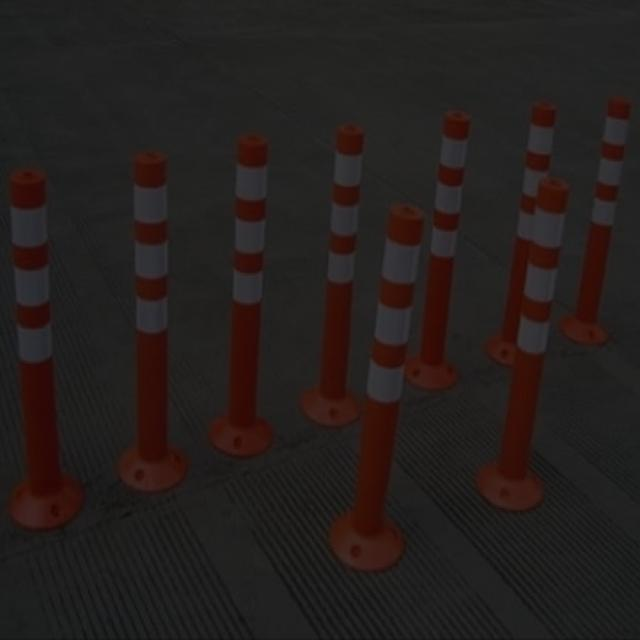obstacle: (3, 160, 72, 534), (357, 190, 427, 490), (505, 95, 573, 364), (416, 101, 478, 392), (572, 88, 634, 360), (220, 125, 273, 438), (128, 145, 176, 483), (318, 119, 366, 392)
